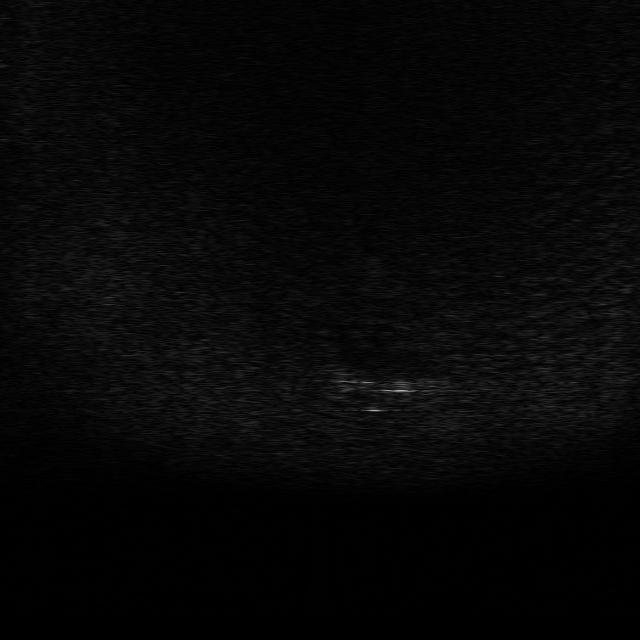plane: (325, 364, 449, 401)
